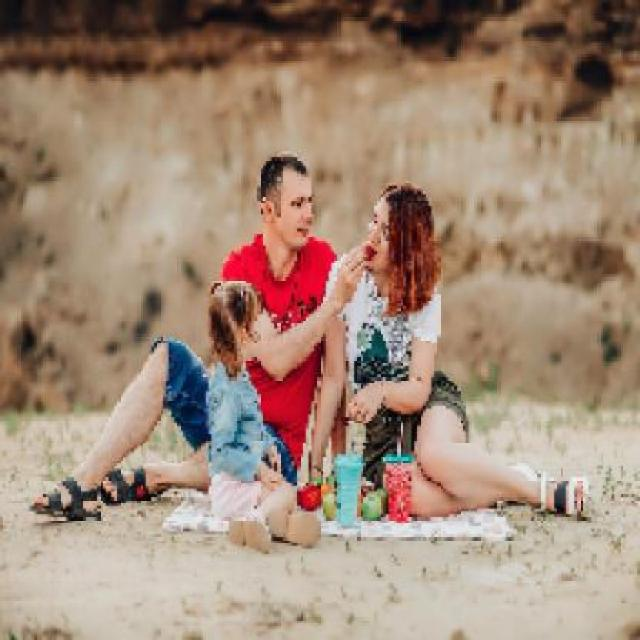child: (207, 279, 324, 555)
